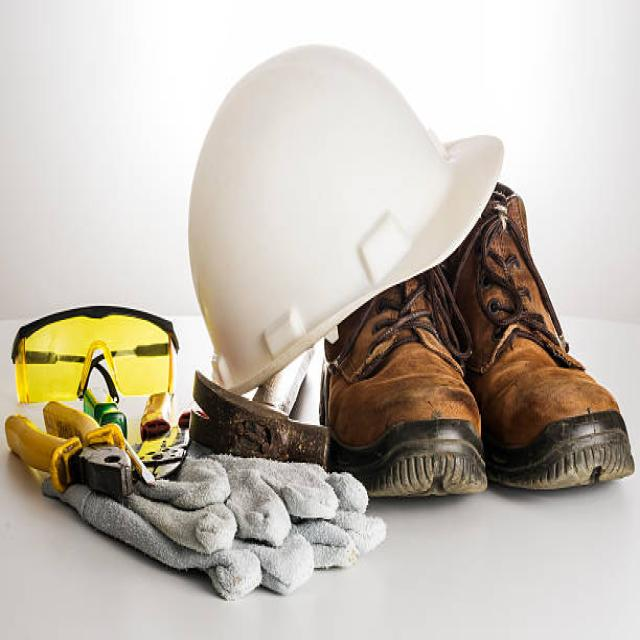Gloves: (36, 444, 392, 604)
helmet: (184, 41, 507, 403)
